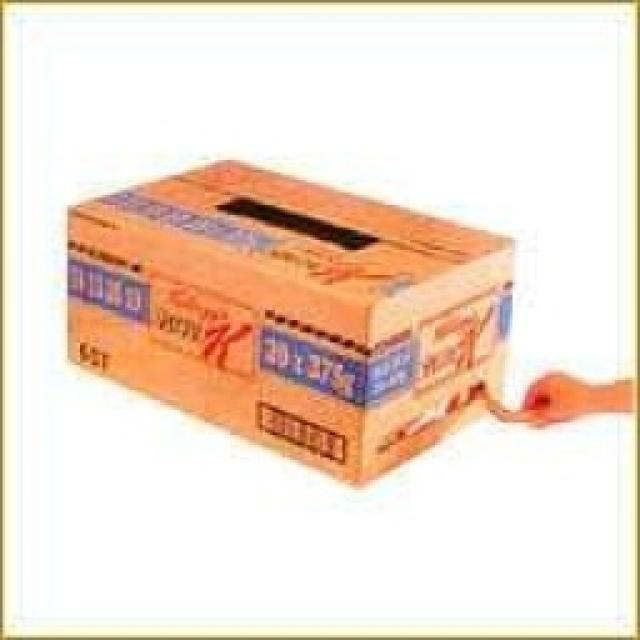box: (46, 107, 542, 478)
